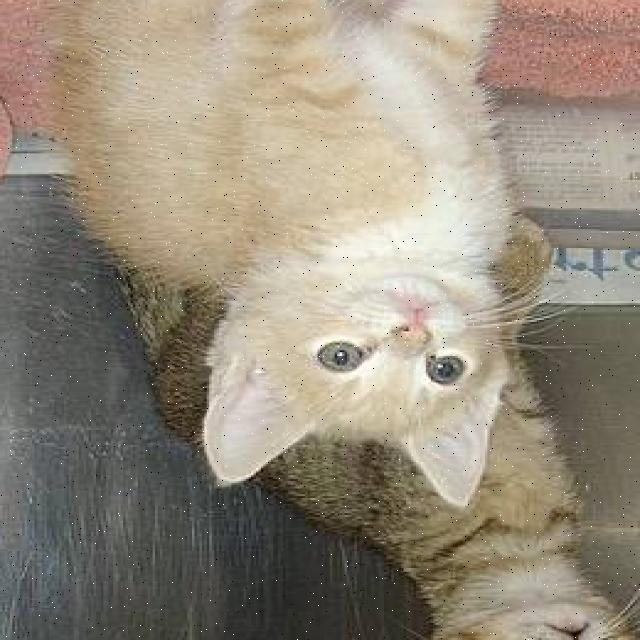Cat: (199, 238, 528, 484), (403, 559, 640, 640)
